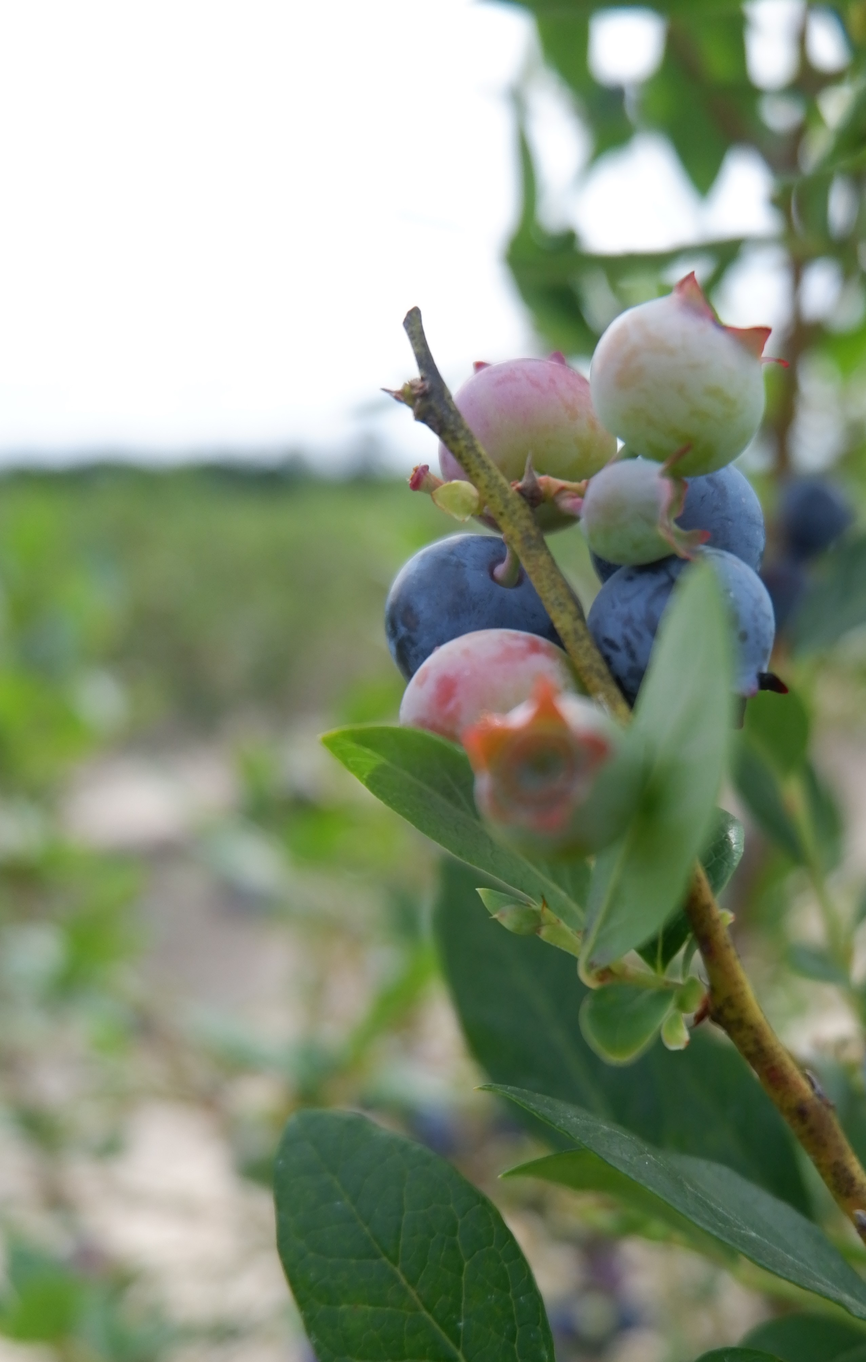Immature: (595, 280, 768, 473), (466, 691, 641, 860), (436, 355, 614, 506), (402, 633, 573, 749), (585, 459, 687, 561)
Mature: (589, 549, 765, 696), (388, 534, 549, 675), (590, 465, 765, 588)
